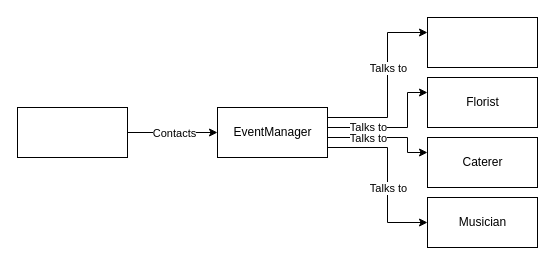
The diagram is 555 pixels wide and 265 high, and some of its shapes have lost their labels. The shapes that lost their labels are listed below. From the top down, each one's centre as x and y in pixels, then its label:
(x=482, y=42): Hotelier
(x=72, y=132): Client
